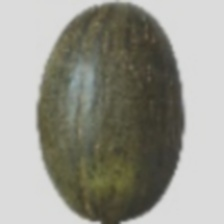honeydew: (5, 47, 188, 202)
